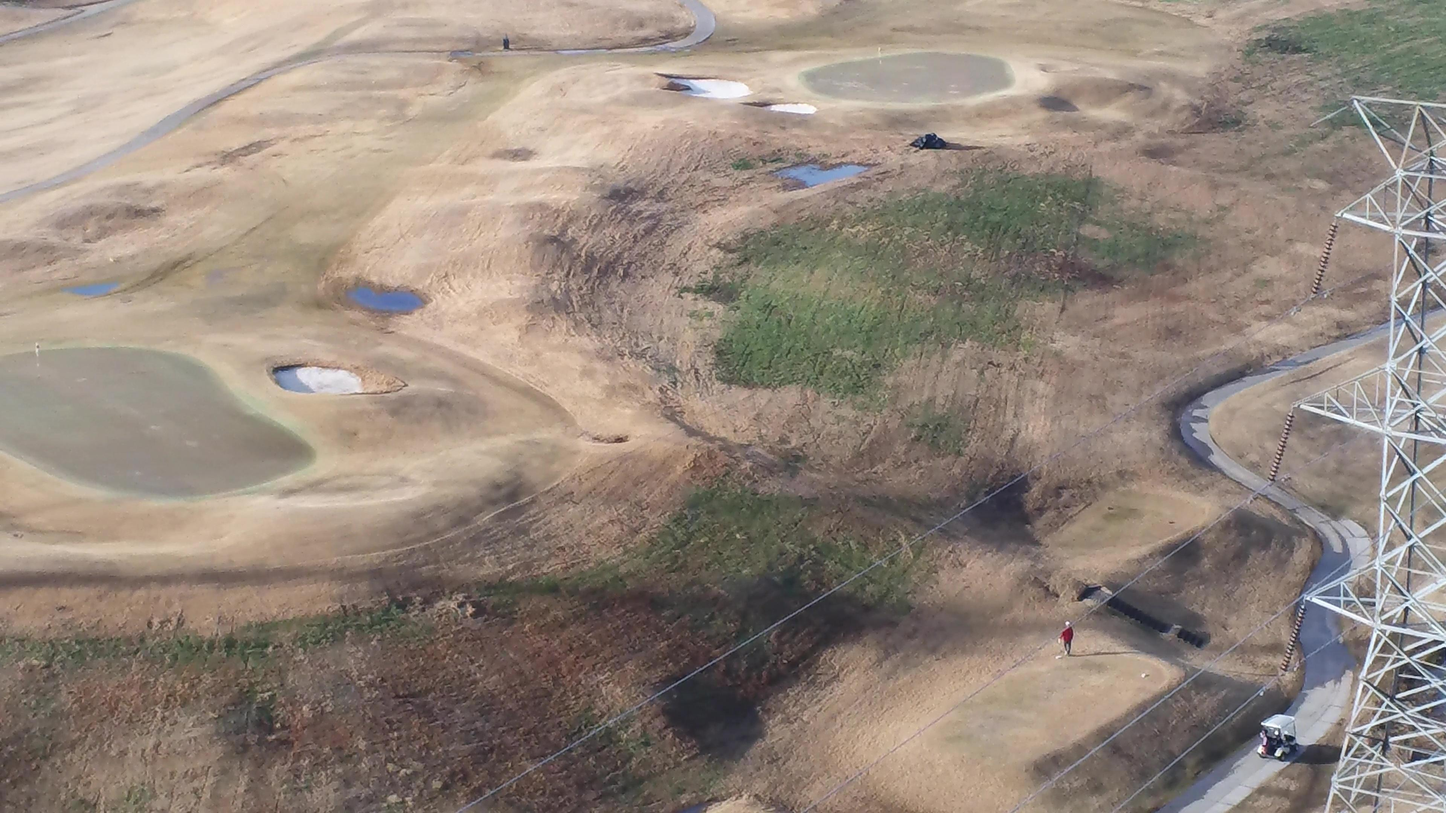power_tower: (1244, 95, 1446, 812)
